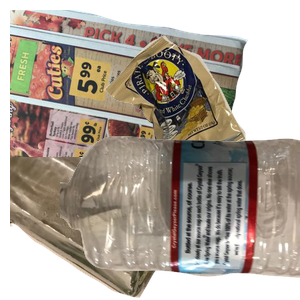glass: (10, 157, 190, 300)
paper: (10, 10, 250, 190)
plastic: (60, 134, 300, 300)
trash: (101, 33, 300, 206)
